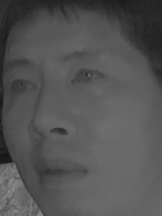eye: (67, 65, 108, 91), (8, 75, 38, 95)
mouth: (32, 152, 90, 189)
